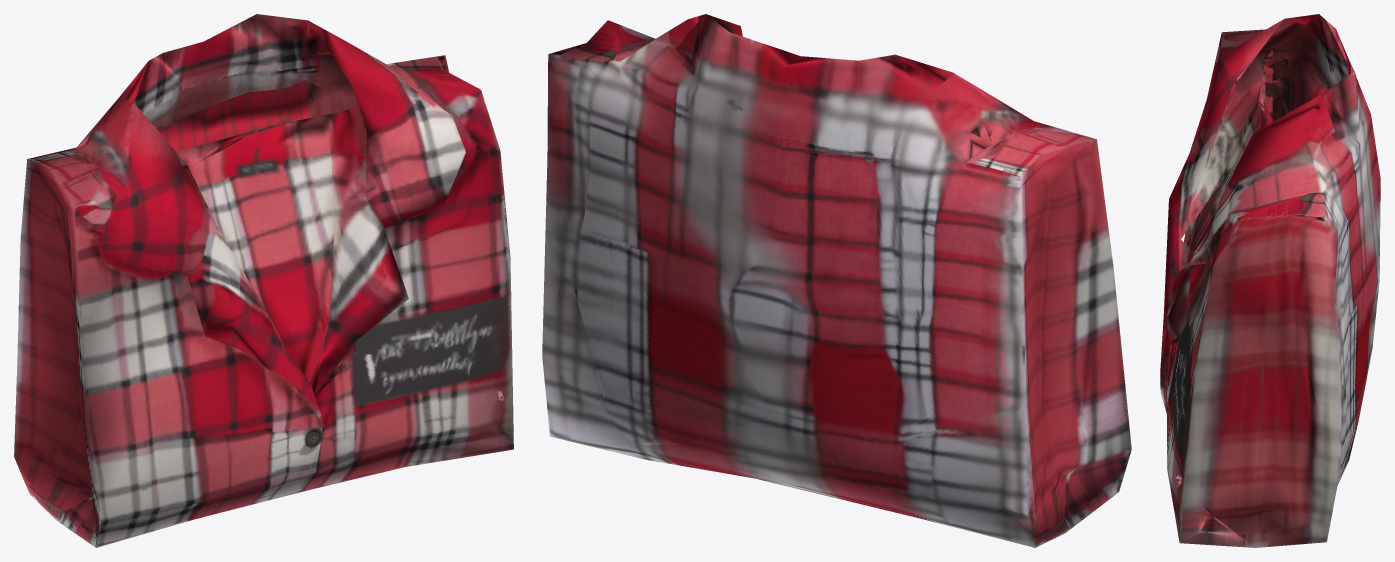
The model's file is pyjama.glb.
The picture shows the model from 3 angles, left to right: view 1: azimuth 30°, elevation 25°; view 2: azimuth 150°, elevation 25°; view 3: azimuth 270°, elevation 25°; orthographic projection. The views are drawn at different scales.
Bounding box in the file's own units: 1.97 × 1.82 × 0.9098.
Materials: 1 (1 with a texture image).
